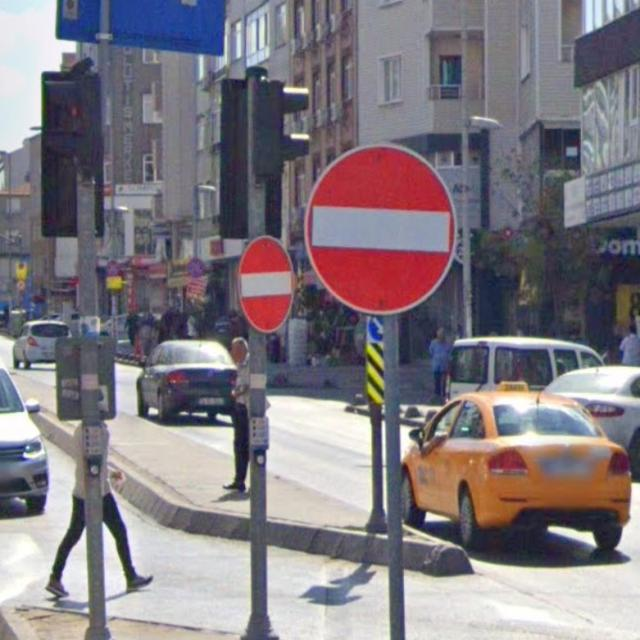girisyok: (303, 143, 458, 314), (238, 235, 295, 332)
